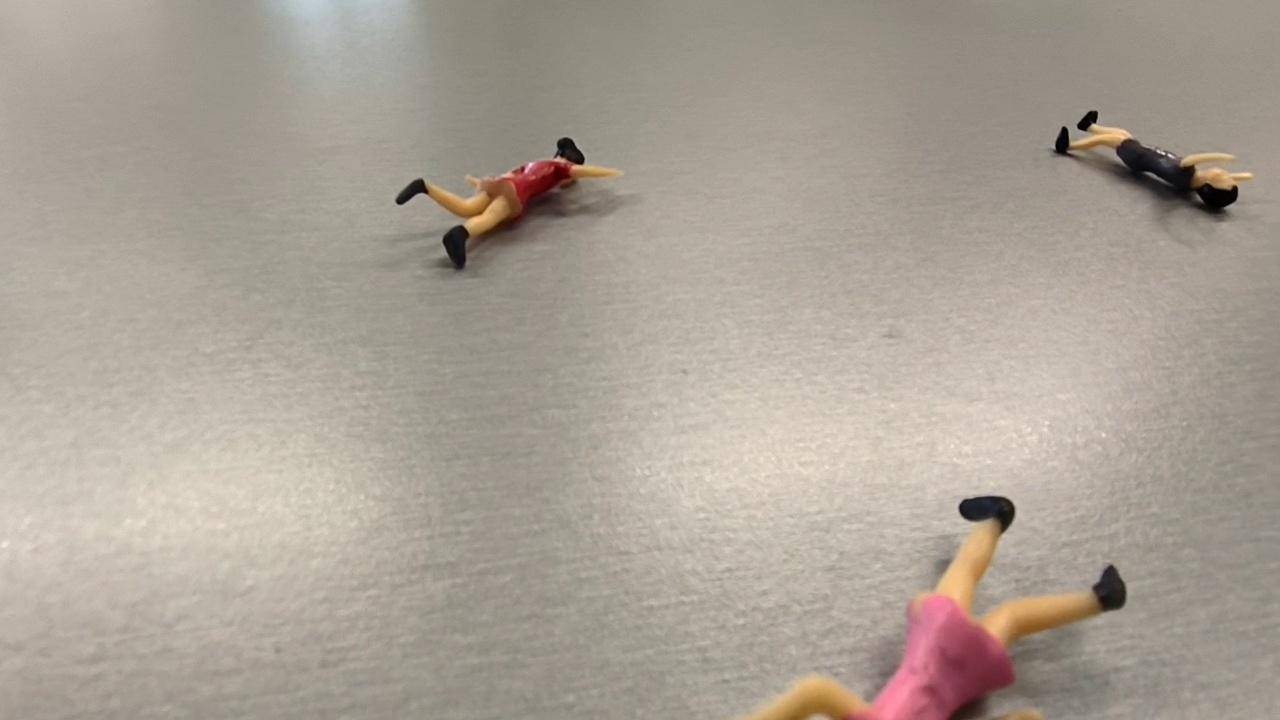human: (744, 494, 1128, 720), (395, 136, 625, 268), (1056, 109, 1254, 210)
